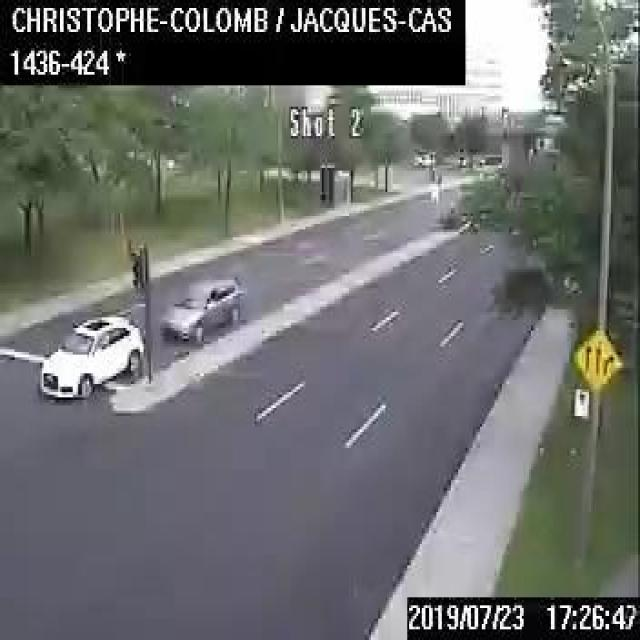vehicle: (36, 306, 144, 402), (160, 272, 244, 347)
